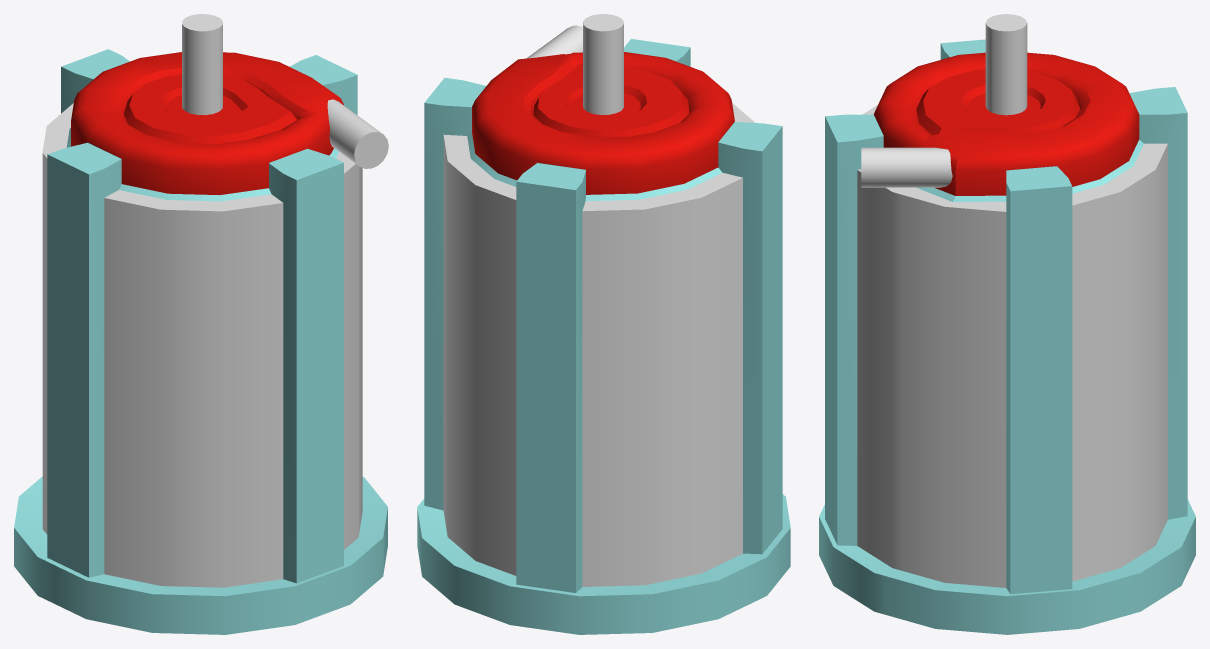
File: genericCentrifugal.fbx
The picture shows the model from 3 angles, left to right: view 1: azimuth 30°, elevation 25°; view 2: azimuth 150°, elevation 25°; view 3: azimuth 270°, elevation 25°; orthographic projection.
Visible parts, largest first — view 1: CentrifgualPump; view 2: CentrifgualPump; view 3: CentrifgualPump.
Part boxes in pixels (x1=…): CentrifgualPump: x1=14, y1=14, x2=388, y2=634; CentrifgualPump: x1=417, y1=14, x2=790, y2=634; CentrifgualPump: x1=819, y1=14, x2=1195, y2=634.
Size of the model in its own units: 12.98 by 20.25 by 12.98.
